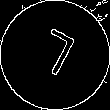L_SW: (29, 25, 81, 85)
